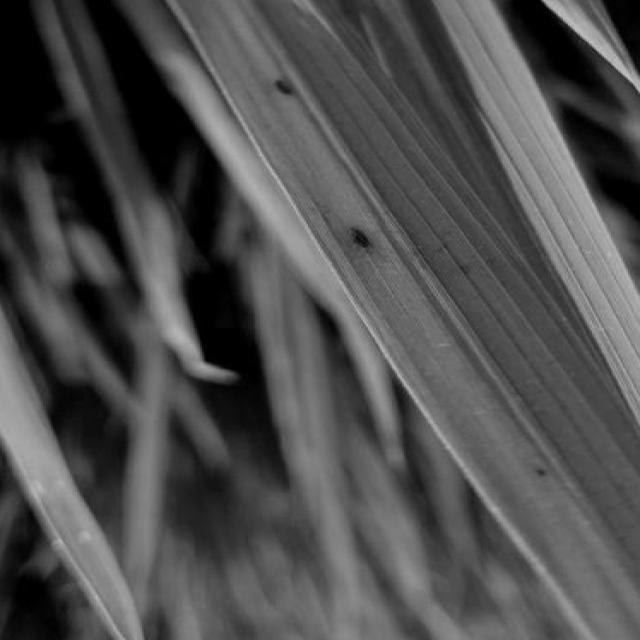Brown_Spot: (337, 221, 385, 272), (514, 457, 556, 498), (264, 76, 310, 106)
